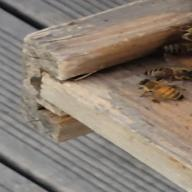Bee: (127, 78, 192, 107)
